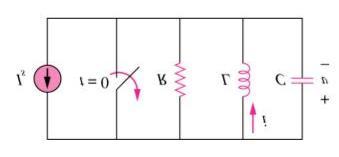Capacitor: (283, 58, 317, 96)
